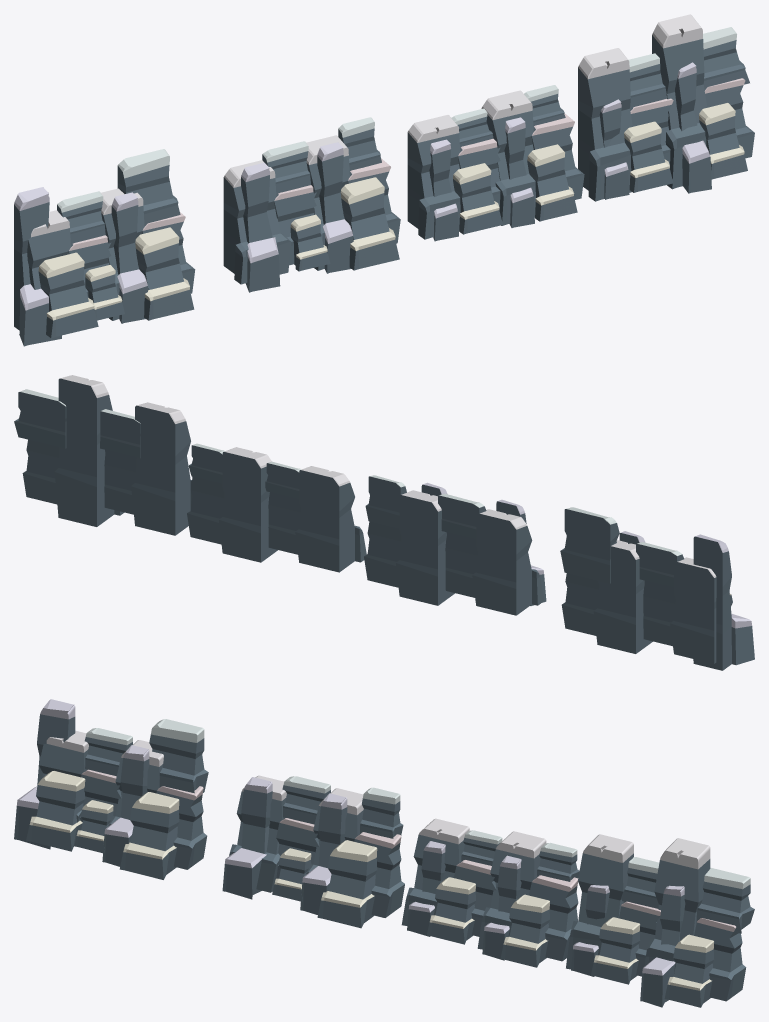
Rendered from Tebing_Bersalju.fbx.
3 renders of one model, top to bottom at view 1: azimuth 30°, elevation 25°; view 2: azimuth 150°, elevation 25°; view 3: azimuth 330°, elevation 25°, orthographic. The views are drawn at different scales.
Visible parts, largest first — view 1: Cube.032, Cube.037, Cube.001, Cube.023, Cube.017, Cube.027, Cube.013, Cube.030, Cube.011, Cube.006, Cube.028, Cube.018 (+29 smaller); view 2: Cube.032, Cube.037, Cube.011, Cube.001, Cube.006, Cube.016, Cube.026, Cube.021, Cube.023, Cube.029, Cube.040, Cube.005 (+14 smaller); view 3: Cube.032, Cube.017, Cube.027, Cube.037, Cube.013, Cube.030, Cube.029, Cube.007, Cube.038, Cube.018, Cube.028, Cube.040 (+29 smaller).
Part boxes in pixels (x1,y1,x2,y2): Cube.032: (578, 48, 632, 201); Cube.037: (652, 14, 707, 189); Cube.001: (407, 115, 460, 239); Cube.023: (14, 187, 61, 346); Cube.017: (340, 177, 399, 270); Cube.027: (135, 227, 194, 320); Cube.013: (241, 162, 280, 292); Cube.030: (38, 252, 98, 338); Cube.011: (223, 160, 291, 284); Cube.006: (481, 90, 535, 225); Cube.028: (111, 192, 147, 323); Cube.018: (317, 142, 353, 273); Cube.032: (131, 402, 192, 535); Cube.037: (54, 375, 124, 526); Cube.011: (472, 509, 544, 615); Cube.001: (295, 466, 366, 572); Cube.006: (219, 447, 277, 562); Cube.016: (396, 490, 454, 605); Cube.026: (593, 540, 652, 653); Cube.021: (670, 557, 716, 663); Cube.023: (693, 534, 754, 670); Cube.029: (560, 507, 619, 583); Cube.040: (14, 389, 66, 448); Cube.005: (187, 476, 224, 544); Cube.032: (566, 834, 633, 969); Cube.017: (317, 840, 377, 928); Cube.027: (119, 792, 179, 879); Cube.037: (644, 838, 710, 973); Cube.013: (222, 777, 272, 899); Cube.030: (26, 771, 85, 851); Cube.029: (149, 719, 208, 802); Cube.007: (500, 894, 549, 967); Cube.038: (664, 934, 714, 1007); Cube.018: (300, 793, 347, 914); Cube.028: (102, 745, 149, 866); Cube.040: (696, 867, 754, 933).
Bounding box in the file's own units: 8074 × 1522 × 681.
